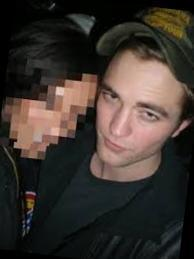Drunk: (101, 61, 180, 164)
